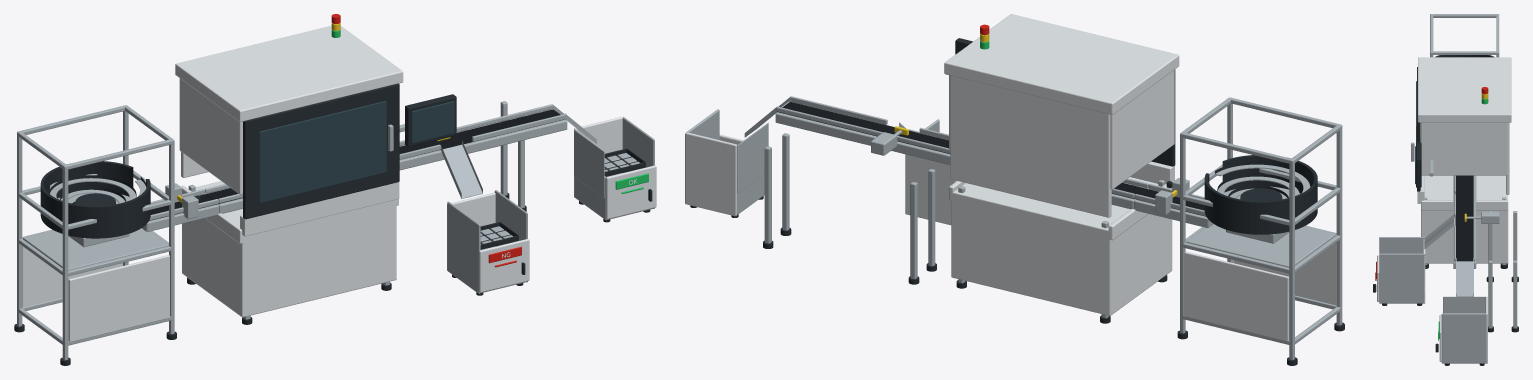
The model's file is AOI_Inspection_Line.fbx.
The picture shows the model from 3 angles, left to right: view 1: azimuth 30°, elevation 25°; view 2: azimuth 150°, elevation 25°; view 3: azimuth 270°, elevation 25°; orthographic projection. The views are drawn at different scales.
Visible parts, largest first — view 1: AOI_Lower_Cabinet, AOI_Roof, AOI_Observation_Window, Buffer_Lower_Front_Panel, AOI_Door_Frame, Bowl_Outer_Ring, AOI_Side_Upper, Buffer_Internal_Deck, AOI_White_Lower_Fascia, NG_Side, Buffer_Lower_Back_Panel, OK_Drawer_Front (+25 smaller); view 2: AOI_Lower_Cabinet, AOI_Rear_Wall, AOI_Roof, Buffer_Lower_Back_Panel, AOI_Side_Upper, Bowl_Outer_Ring, OK_Rear, Buffer_Internal_Deck, NG_Rear, Buffer_Lower_Front_Panel, Conveyor_Frame.002, OK_Inlet_Lower_Closure (+20 smaller); view 3: AOI_Roof, AOI_Side_Upper.001, AOI_Lower_Cabinet, NG_Side.001, OK_Side.001, Conveyor_Belt.002, OK_Inlet_Lower_Closure, NG_Side, AOI_Side_Lower.001, OK_End_Discharge_Chute, Support_Leg.010, Support_Leg.011 (+19 smaller).
Part boxes in pixels (<box>): AOI_Lower_Cabinet: <box>182,181,396,317</box>; AOI_Roof: <box>175,25,403,121</box>; AOI_Observation_Window: <box>259,101,386,203</box>; Buffer_Lower_Front_Panel: <box>68,255,169,342</box>; AOI_Door_Frame: <box>243,83,399,219</box>; Bowl_Outer_Ring: <box>40,161,150,238</box>; AOI_Side_Upper: <box>179,78,242,194</box>; Buffer_Internal_Deck: <box>23,228,168,270</box>; AOI_White_Lower_Fascia: <box>240,182,399,236</box>; NG_Side: <box>447,201,480,293</box>; Buffer_Lower_Back_Panel: <box>22,246,122,306</box>; OK_Drawer_Front: <box>606,165,656,219</box>; AOI_Lower_Cabinet: <box>951,177,1172,315</box>; AOI_Rear_Wall: <box>950,75,1111,217</box>; AOI_Roof: <box>944,14,1179,114</box>; Buffer_Lower_Back_Panel: <box>1184,251,1289,341</box>; AOI_Side_Upper: <box>1110,70,1174,189</box>; Bowl_Outer_Ring: <box>1204,155,1317,234</box>; OK_Rear: <box>685,132,737,216</box>; Buffer_Internal_Deck: <box>1186,224,1335,267</box>; NG_Rear: <box>905,154,956,225</box>; Buffer_Lower_Front_Panel: <box>1233,243,1336,305</box>; Conveyor_Frame.002: <box>775,102,950,164</box>; OK_Inlet_Lower_Closure: <box>737,122,768,193</box>; AOI_Roof: <box>1418,57,1511,122</box>; AOI_Side_Upper.001: <box>1421,122,1508,175</box>; AOI_Lower_Cabinet: <box>1421,175,1508,263</box>; NG_Side.001: <box>1379,253,1425,303</box>; OK_Side.001: <box>1441,313,1486,363</box>; Conveyor_Belt.002: <box>1455,194,1473,261</box>; OK_Inlet_Lower_Closure: <box>1443,296,1485,313</box>; NG_Side: <box>1379,237,1424,253</box>; AOI_Side_Lower.001: <box>1421,200,1508,210</box>; OK_End_Discharge_Chute: <box>1456,261,1473,296</box>; Support_Leg.010: <box>1488,260,1492,328</box>; Support_Leg.011: <box>1513,260,1517,328</box>.
Size of the model in its own units: 544 by 212 by 159.
